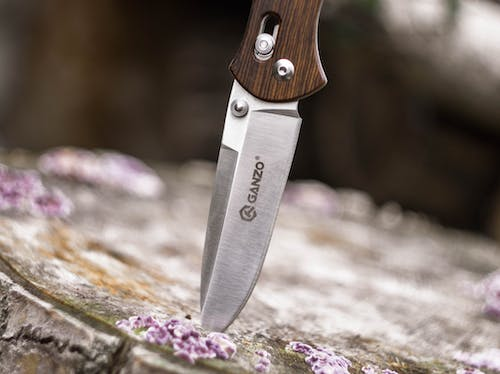knife: (198, 0, 333, 333)
